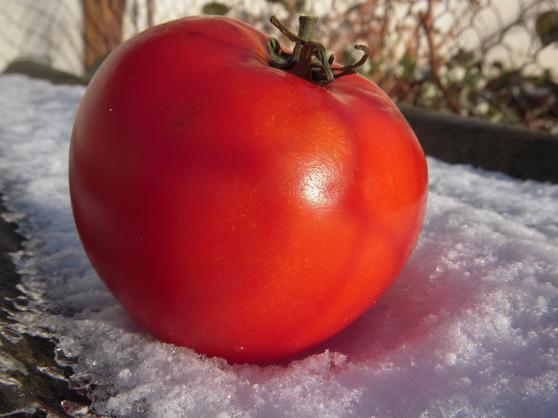tomato: (68, 3, 433, 360)
